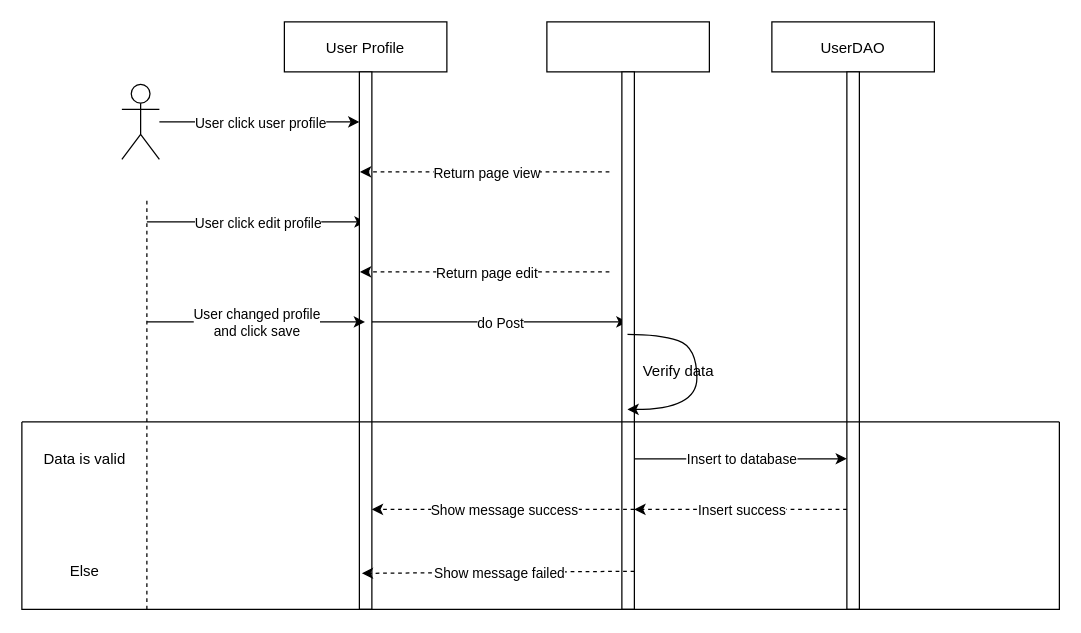
The diagram is 1081 pixels wide and 633 high, and some of its shapes have lost their labels. Here are the shapes that lost their labels. From the top down, the box of each, then its label:
(121, 83, 159, 159): User
(546, 21, 709, 609): User Profile Controller
